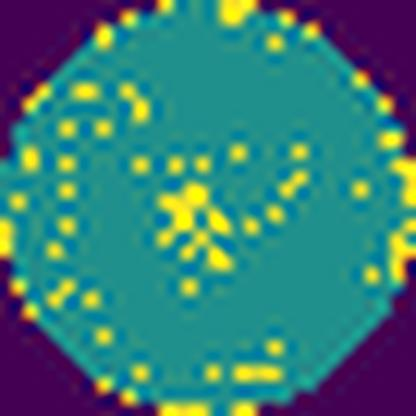Center: (155, 178, 238, 270)
